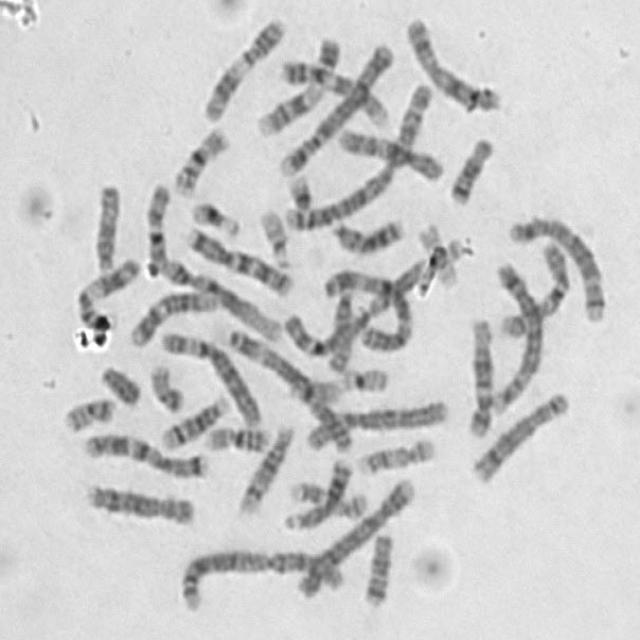A1: (138, 177, 278, 349), (277, 253, 423, 359)
A2: (276, 72, 434, 234), (170, 538, 350, 613)
A3: (218, 320, 355, 454), (310, 258, 418, 355)
B4: (272, 33, 396, 178), (287, 470, 419, 600)
B5: (498, 207, 609, 326), (485, 254, 546, 415)
C10: (493, 232, 573, 340), (331, 118, 446, 184)
C11: (196, 7, 288, 124), (69, 249, 143, 332)
C12: (122, 280, 220, 349), (460, 310, 497, 438)
C6: (155, 321, 264, 428), (298, 391, 451, 453)
C7: (179, 218, 296, 298), (76, 424, 211, 480)
C8: (464, 383, 572, 485), (78, 474, 197, 527)
C9: (249, 27, 343, 138), (273, 52, 393, 129)
D13: (278, 449, 354, 532), (324, 208, 407, 255)
D14: (231, 417, 297, 517), (154, 387, 232, 452)
D15: (87, 175, 123, 275), (322, 277, 358, 373)
E16: (166, 118, 232, 198), (198, 416, 274, 454)
E17: (351, 428, 438, 477), (283, 473, 369, 521)
E18: (442, 129, 495, 206), (356, 524, 396, 610)
F19: (410, 215, 461, 292), (333, 358, 391, 394)
F20: (56, 387, 118, 434), (142, 355, 188, 414)
G21: (183, 192, 243, 240), (280, 165, 316, 212)
G22: (252, 198, 293, 270), (284, 371, 343, 405)
X: (398, 7, 504, 113)
Y: (93, 356, 143, 408)
